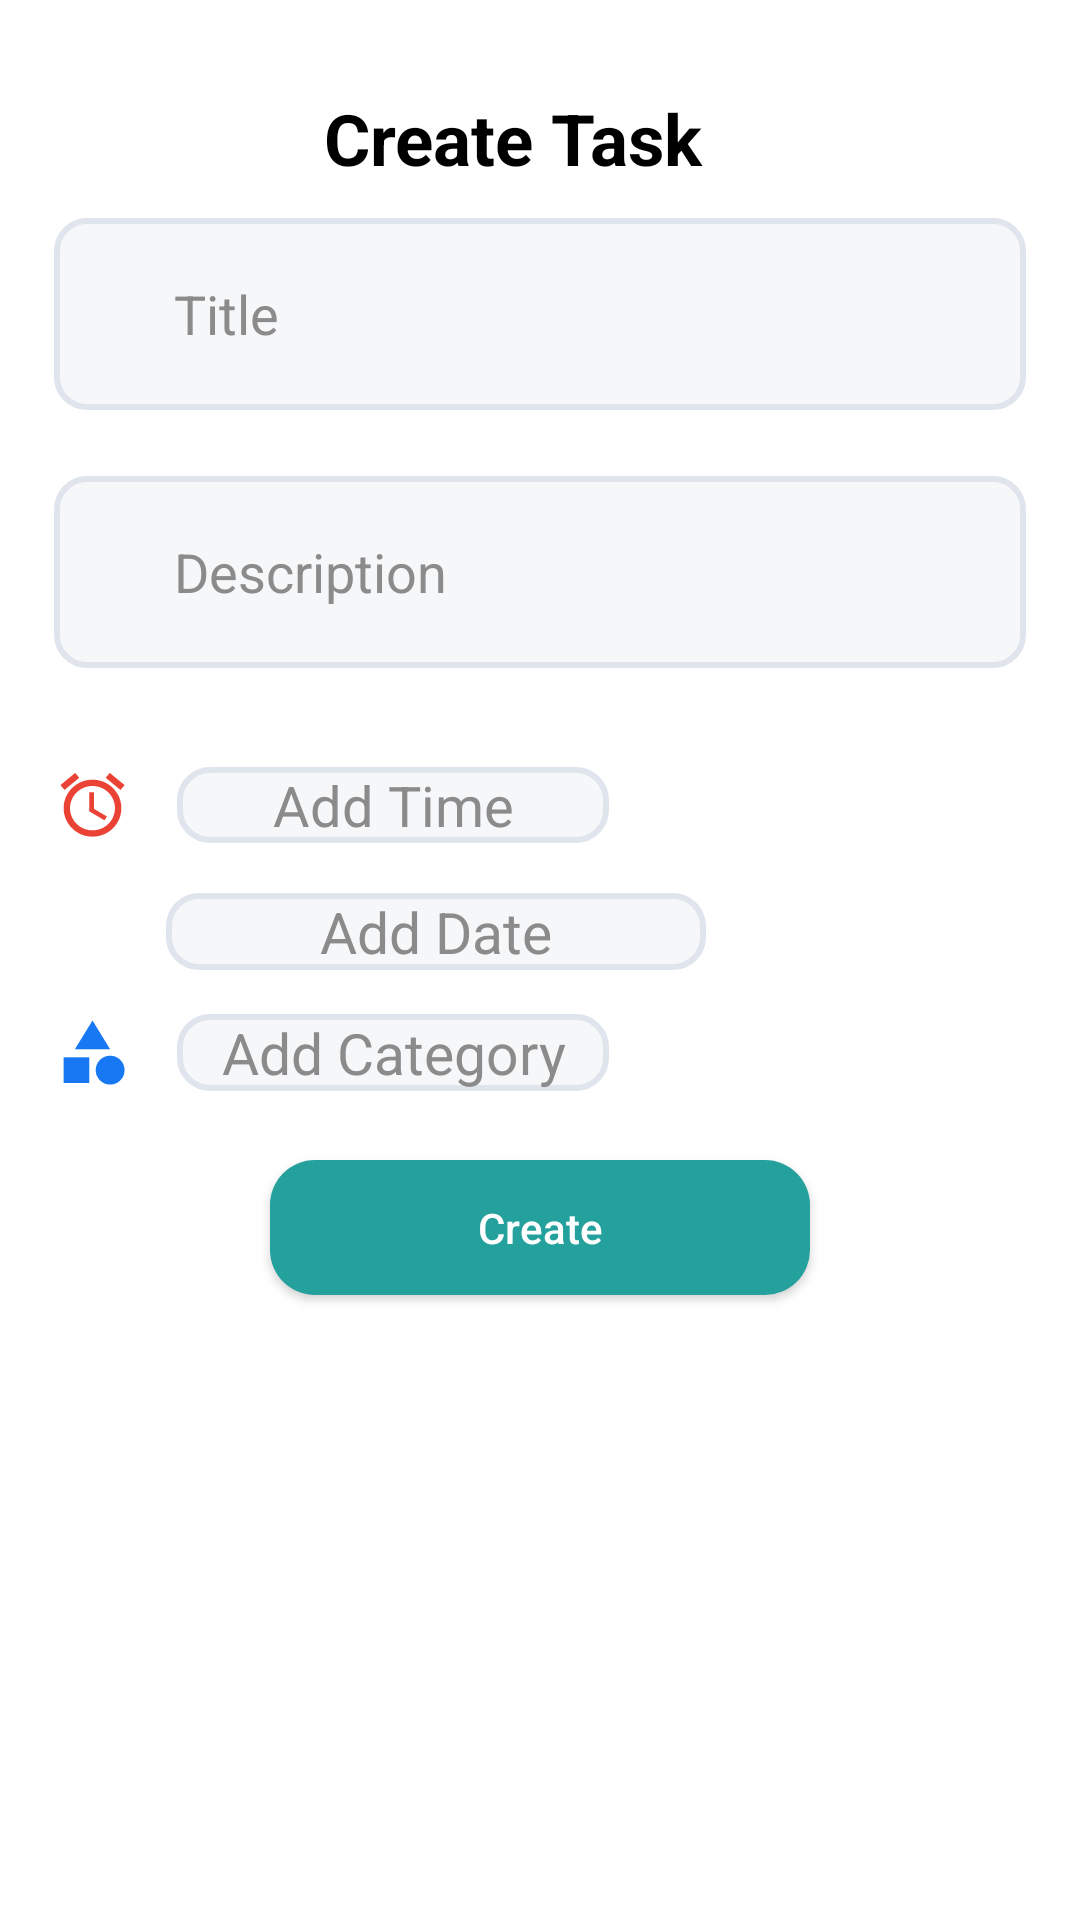

Screen size 1080*1920. Icon name, then its box in pixels as bbox=[x1, y1, x2, y2]:
clock: bbox=[60, 773, 125, 837]
